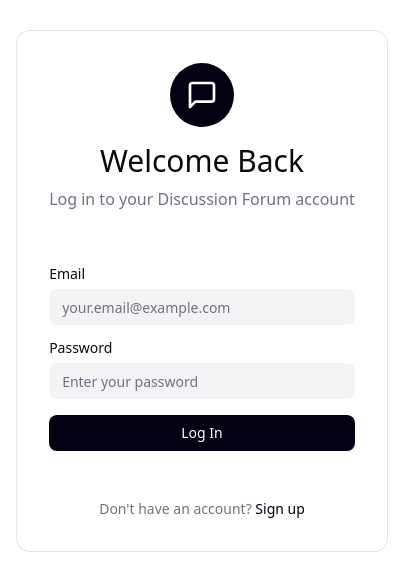
Scenario: Login E2E Tests › should display alert when email is empty
# hanya isi password lalu submit
Type "password123" into the password field with test id "password-input". click: (202, 381)
box: [49,363,355,399]
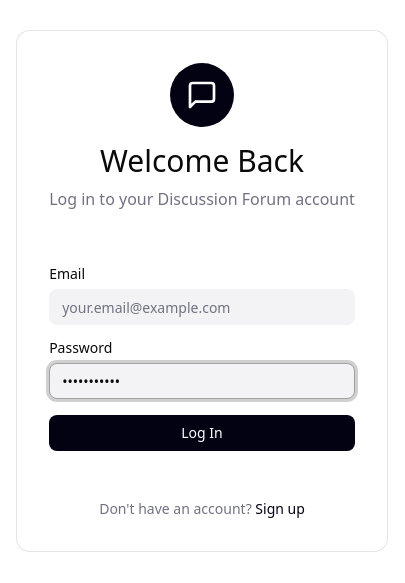
Click the submit button. click: (202, 433)
box: [49,415,355,451]
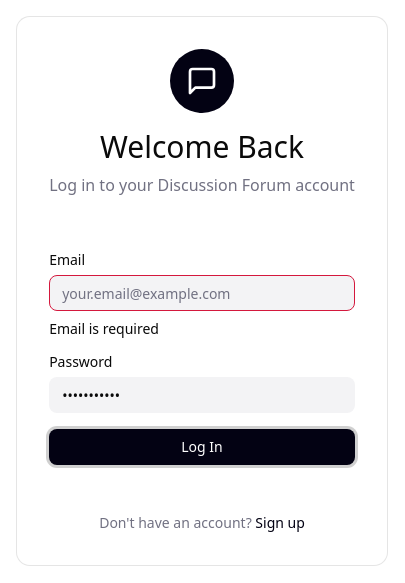
Now the text "Email is required" is shown, box [49,319,159,338]
